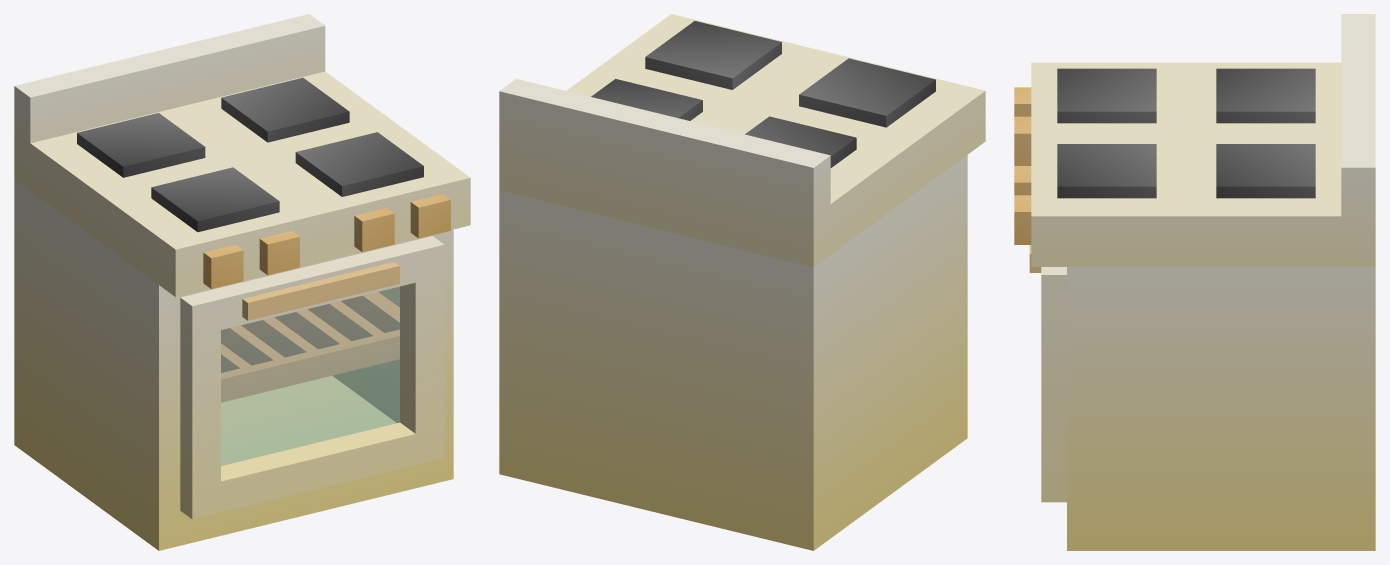
The model's file is Stovetop_default.fbx.
3 views of the same model, side by side, from view 1: azimuth 30°, elevation 25°; view 2: azimuth 150°, elevation 25°; view 3: azimuth 270°, elevation 25° (orthographic). The views are drawn at different scales.
Visible parts, largest first — view 1: Stovetop.default, Stovetop_OvenDoor.default, Stovetop_OvenGrill.default, Stovetop_Stove3__Unlit.default, Stovetop_Stove2__Unlit.default, Stovetop_Stove1_Unlit.default, Stovetop_Stove4__Unlit.default, Stovetop_Stove4_Knob.default, Stovetop_Stove1_Knob.default, Stovetop_Stove3_Knob.default, Stovetop_Stove2_Knob.default; view 2: Stovetop.default, Stovetop_Stove2__Unlit.default, Stovetop_Stove4__Unlit.default, Stovetop_Stove1_Unlit.default, Stovetop_Stove3__Unlit.default; view 3: Stovetop.default, Stovetop_OvenDoor.default, Stovetop_Stove1_Unlit.default, Stovetop_Stove2__Unlit.default, Stovetop_Stove4__Unlit.default, Stovetop_Stove3__Unlit.default, Stovetop_Stove4_Knob.default, Stovetop_Stove2_Knob.default, Stovetop_Stove1_Knob.default, Stovetop_Stove3_Knob.default.
Boxes of the visible parts, x1,y1,x2,y2 form: Stovetop.default: (14,14,470,550); Stovetop_OvenDoor.default: (180,236,444,519); Stovetop_OvenGrill.default: (221,292,399,402); Stovetop_Stove3__Unlit.default: (221,77,349,142); Stovetop_Stove2__Unlit.default: (151,167,279,232); Stovetop_Stove1_Unlit.default: (77,113,205,177); Stovetop_Stove4__Unlit.default: (295,132,423,196); Stovetop_Stove4_Knob.default: (410,194,450,238); Stovetop_Stove1_Knob.default: (203,244,243,288); Stovetop_Stove3_Knob.default: (354,208,394,252); Stovetop_Stove2_Knob.default: (259,231,299,275); Stovetop.default: (499,14,985,550); Stovetop_Stove2__Unlit.default: (799,58,935,127); Stovetop_Stove4__Unlit.default: (645,21,781,89); Stovetop_Stove1_Unlit.default: (745,116,856,167); Stovetop_Stove3__Unlit.default: (591,79,702,120); Stovetop.default: (1031,14,1375,550); Stovetop_OvenDoor.default: (1029,245,1066,502); Stovetop_Stove1_Unlit.default: (1216,68,1315,123); Stovetop_Stove2__Unlit.default: (1057,68,1156,123); Stovetop_Stove4__Unlit.default: (1057,144,1156,198); Stovetop_Stove3__Unlit.default: (1216,144,1315,198); Stovetop_Stove4_Knob.default: (1014,195,1031,244); Stovetop_Stove2_Knob.default: (1014,116,1031,165); Stovetop_Stove1_Knob.default: (1014,87,1031,116); Stovetop_Stove3_Knob.default: (1014,166,1031,195).
Bounding box in the file's own units: 99.99 × 116 × 99.45.
